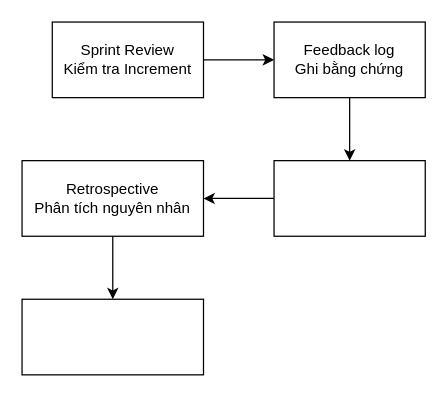
Some shapes in this 447 by 397 pixel diagram are drawn without their labels. The shapes that lost their labels are listed below. From the top down, each one's centre as x and y in pixels, then its label:
point (349, 197): Product Backlog PO sắp xếp ưu tiên
point (112, 336): Action Item THeo dõi kết quả SP15
